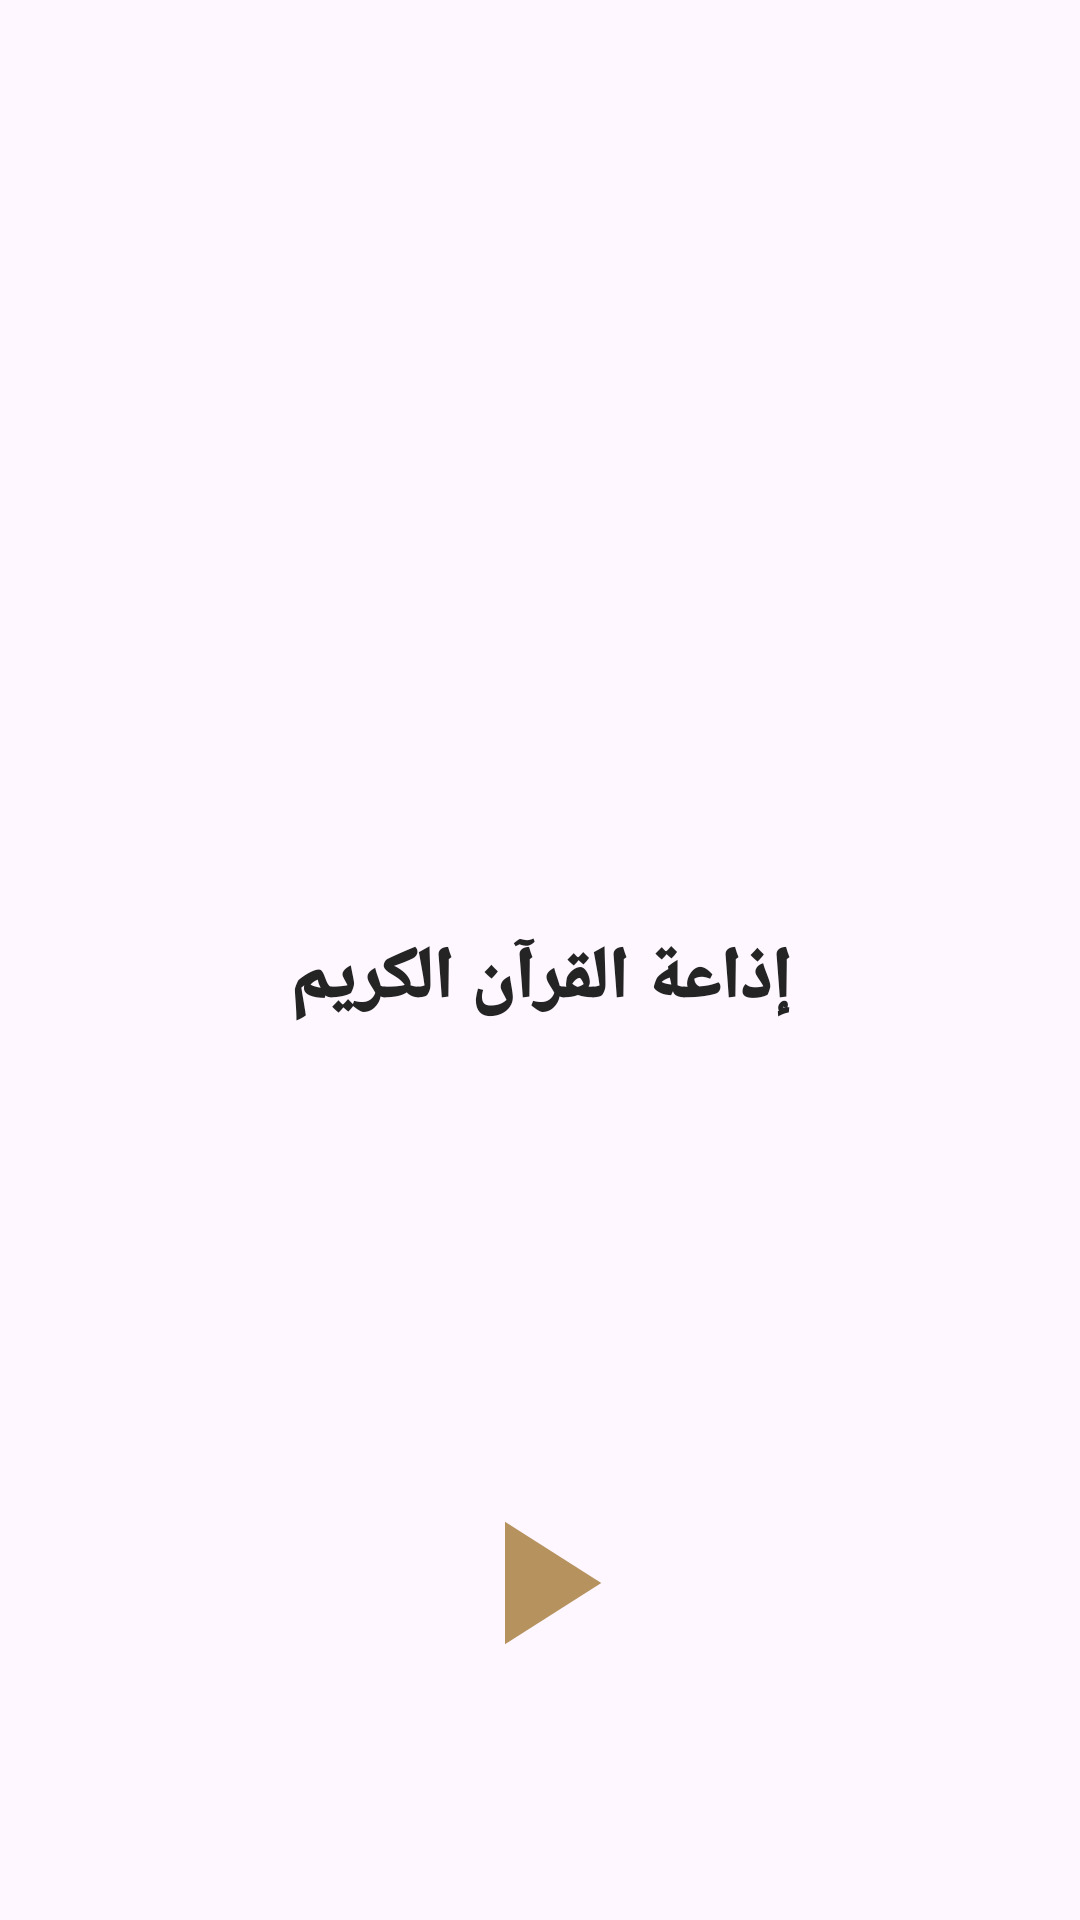

Screen size 1080×1920. Icon name, then its center in pixels as point (x, y):
play: point (553, 1583)
